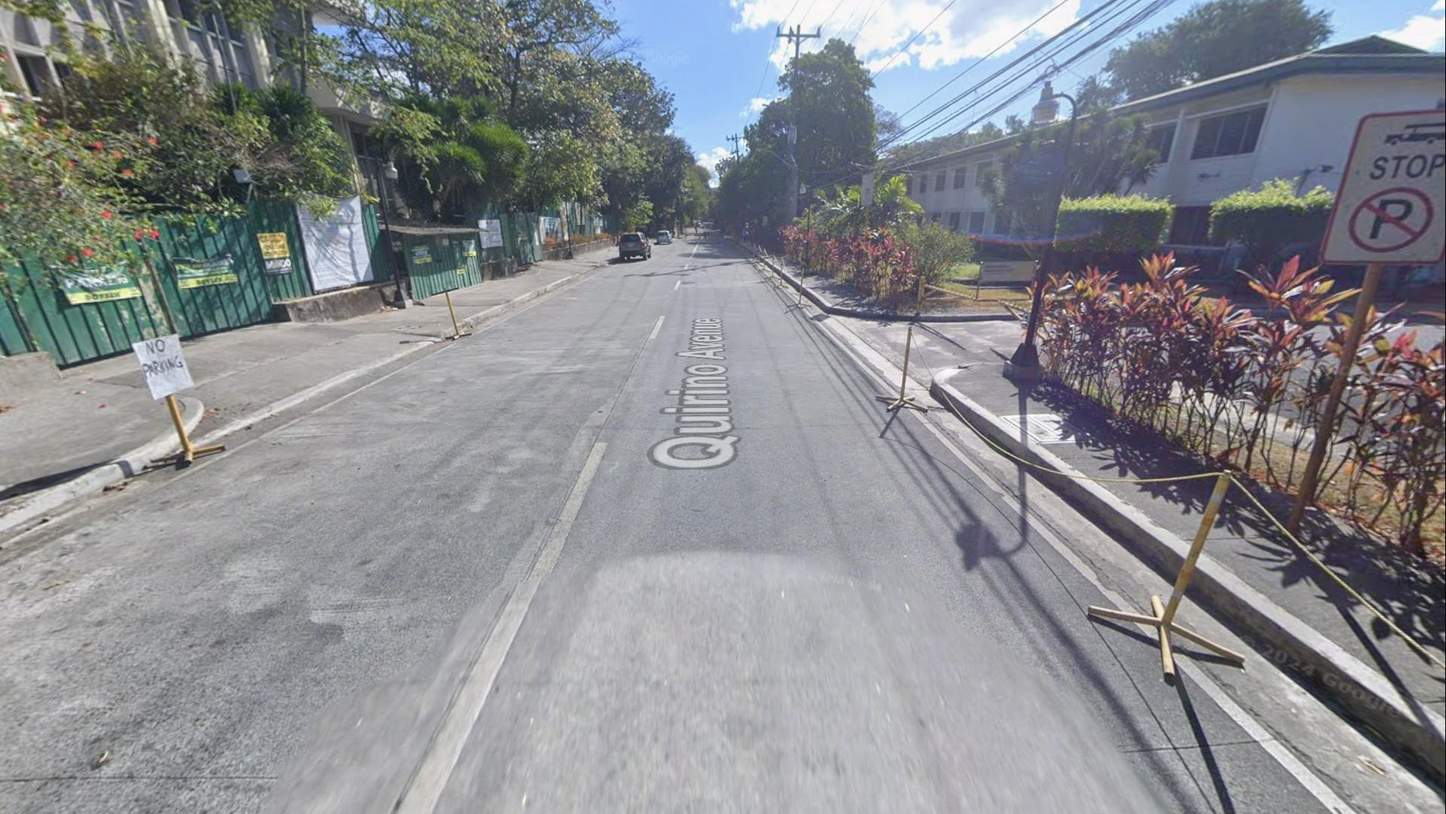pedestrian: (741, 227, 748, 245), (693, 223, 699, 237)
